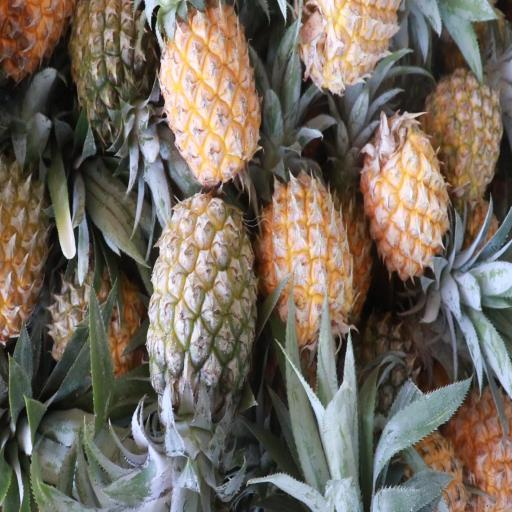------------------------------: (148, 194, 253, 413), (50, 259, 141, 395), (427, 71, 504, 205)
Pineapple - v8 v1: (160, 2, 259, 184), (264, 172, 352, 338), (363, 112, 448, 282), (0, 150, 54, 330)
